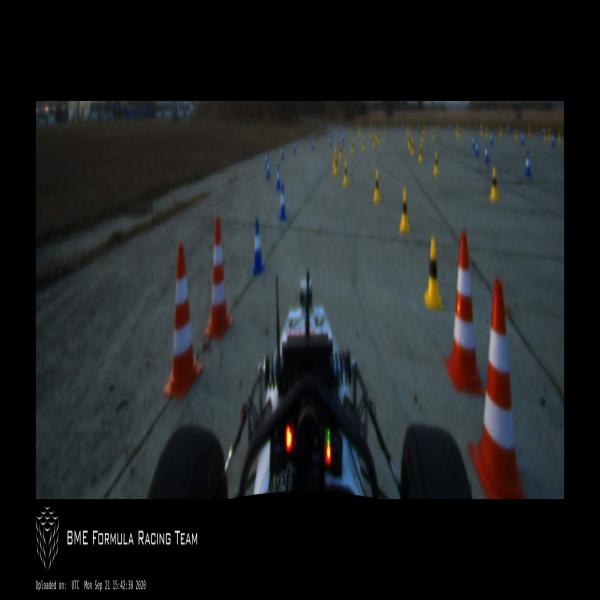blue_cone: (252, 220, 264, 274), (279, 185, 286, 220), (525, 151, 532, 176), (484, 141, 490, 163), (276, 164, 280, 190), (475, 138, 479, 158), (266, 159, 270, 178), (520, 130, 524, 146), (280, 145, 284, 160), (490, 130, 494, 145), (265, 151, 268, 168), (472, 135, 475, 151), (552, 132, 555, 146), (293, 141, 296, 154), (329, 134, 332, 147), (507, 124, 510, 134), (342, 131, 344, 144), (312, 138, 314, 150), (340, 132, 342, 142)
large_orange_cone: (469, 280, 530, 498), (444, 231, 486, 397), (164, 241, 203, 398), (205, 216, 233, 339)
yellow_cone: (424, 239, 442, 309), (400, 188, 409, 232), (490, 167, 499, 202), (373, 171, 381, 203), (433, 151, 440, 176), (418, 144, 423, 164), (344, 162, 348, 186), (334, 153, 338, 174), (332, 148, 336, 166), (350, 138, 354, 156), (410, 138, 414, 156), (338, 143, 342, 160), (528, 124, 532, 139), (558, 125, 561, 145), (544, 127, 548, 141), (362, 136, 365, 152), (408, 136, 411, 152), (372, 134, 375, 149), (432, 126, 435, 140), (421, 128, 424, 142), (548, 126, 551, 140), (457, 125, 460, 138), (485, 127, 488, 139), (499, 125, 502, 136), (423, 124, 426, 134), (378, 132, 380, 146), (516, 127, 518, 140), (481, 124, 483, 136), (375, 129, 377, 141)
